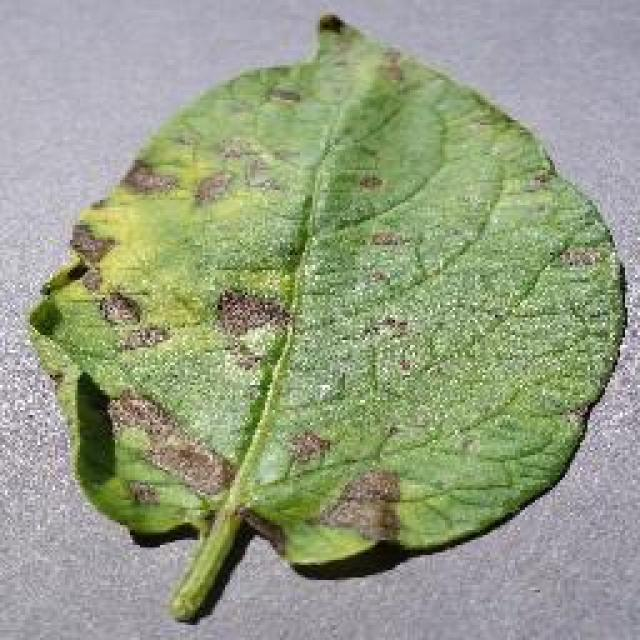early_blight: (22, 10, 630, 622)
